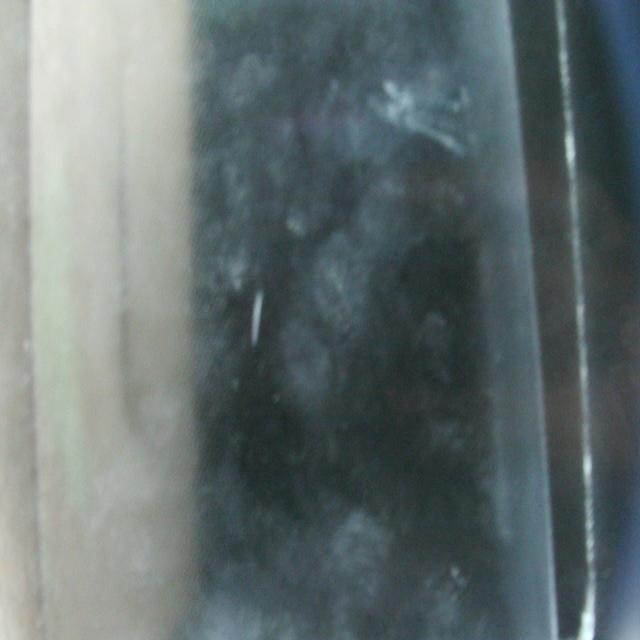scratch: (241, 253, 270, 375)
